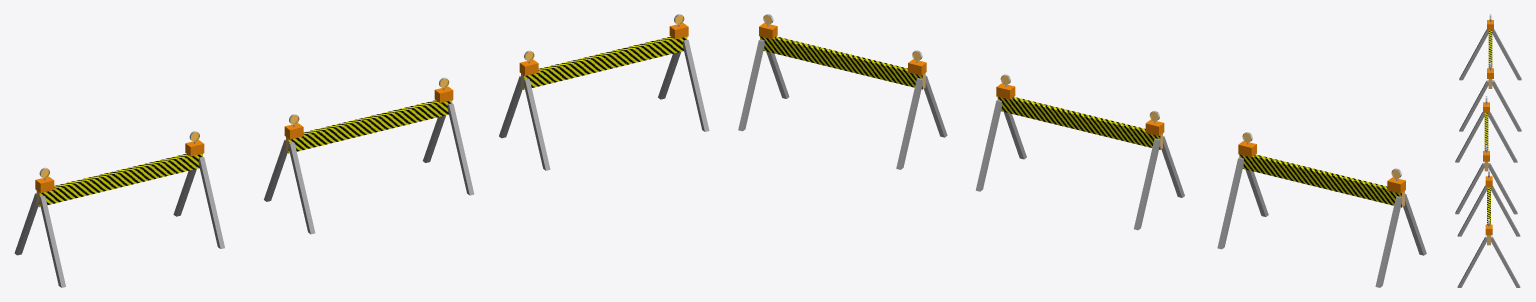
File: warehouse_deactivated.glb
3 renders of one model, left to right at view 1: azimuth 30°, elevation 25°; view 2: azimuth 150°, elevation 25°; view 3: azimuth 270°, elevation 25°, orthographic. The views are drawn at different scales.
Parts seen in each view (by area): view 1: root; view 2: root; view 3: root.
Part boxes in pixels (x1,y1,x2,y2): root: (14,14,709,287); root: (738,14,1426,287); root: (1455,14,1521,287).
Size of the model in its own units: 3704 by 575 by 498.
Materials: 6 (3 with a texture image).
